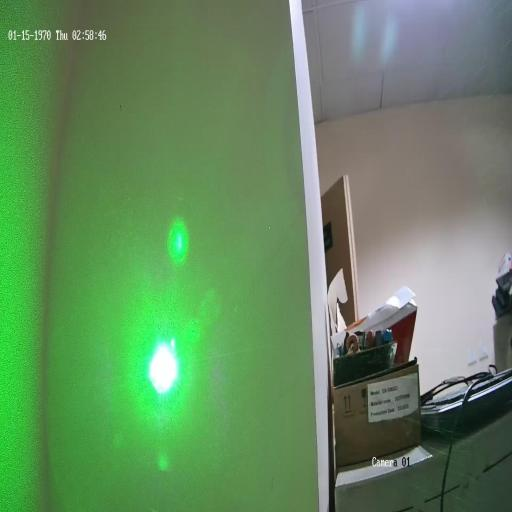laser: (141, 322, 186, 408)
